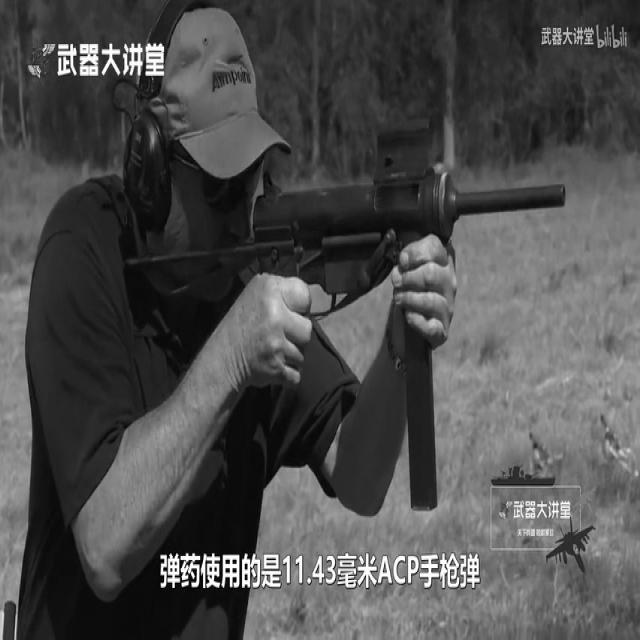Sub-machine-gun: (114, 110, 599, 596)
